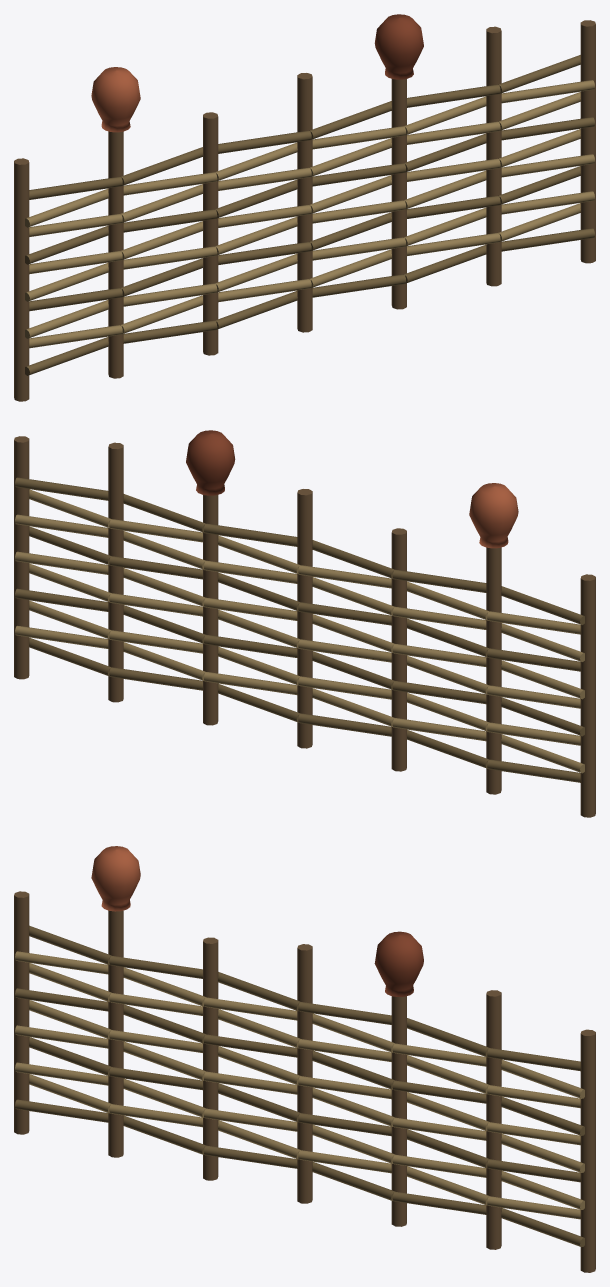
The model's file is tyn.glb.
3 views of the same model, one above another, from view 1: azimuth 30°, elevation 25°; view 2: azimuth 150°, elevation 25°; view 3: azimuth 330°, elevation 25° (orthographic).
Parts seen in each view (by area): view 1: withy (×60), stake (×7), pot (×2); view 2: withy (×60), stake (×7), pot (×2); view 3: withy (×60), stake (×7), pot (×2).
Boxes of the visible parts, x1,y1,x2,y2 form: withy (×60): (25, 55, 594, 375); stake (×7): (14, 20, 595, 401); pot (×2): (91, 14, 423, 132); withy (×60): (15, 477, 584, 782); stake (×7): (14, 436, 595, 817); pot (×2): (186, 430, 518, 548); withy (×60): (15, 925, 584, 1246); stake (×7): (14, 891, 595, 1272); pot (×2): (91, 846, 423, 996).
Bounding box in the file's own units: 2.95 × 1.48 × 0.22.
